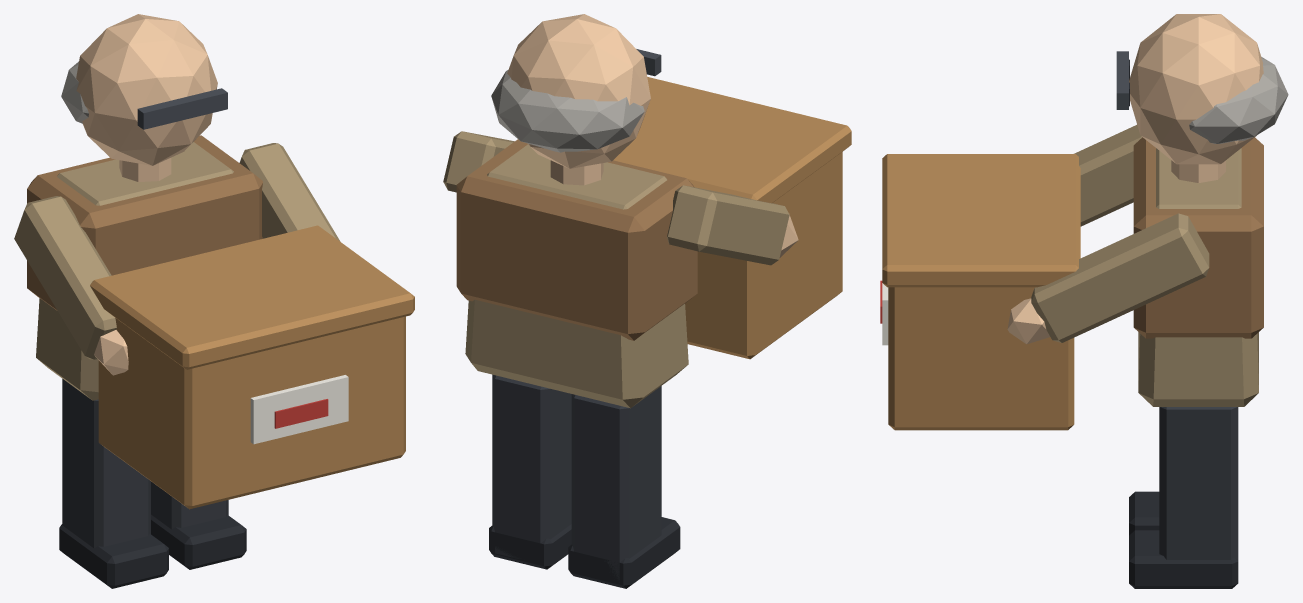
Rendered from oldguard.glb.
3 renders of one model, left to right at view 1: azimuth 30°, elevation 25°; view 2: azimuth 150°, elevation 25°; view 3: azimuth 270°, elevation 25°, orthographic.
Visible parts, largest first — view 1: Props, Body, LegR, ArmR, LegL, ArmL; view 2: Props, Body, LegR, LegL, ArmR, ArmL; view 3: Props, Body, LegL, ArmL, ArmR, LegR.
Boxes of the visible parts, left/top/right/bottom form: Props: left=27, top=88, right=414, bottom=509; Body: left=36, top=14, right=233, bottom=400; LegR: left=59, top=379, right=168, bottom=588; ArmR: left=14, top=196, right=128, bottom=375; LegL: left=151, top=481, right=246, bottom=569; ArmL: left=239, top=143, right=340, bottom=241; Props: left=456, top=49, right=851, bottom=359; Body: left=465, top=14, right=688, bottom=408; LegR: left=568, top=386, right=680, bottom=588; LegL: left=489, top=374, right=571, bottom=569; ArmR: left=667, top=185, right=798, bottom=265; ArmL: left=443, top=131, right=514, bottom=192; Props: left=880, top=51, right=1263, bottom=430; Body: left=1129, top=14, right=1288, bottom=406; LegL: left=1129, top=407, right=1238, bottom=588; ArmL: left=1007, top=213, right=1209, bottom=344; ArmR: left=1074, top=125, right=1142, bottom=226; LegR: left=1129, top=491, right=1159, bottom=535.
Bounding box in the file's own units: 0.4905 × 0.9616 × 0.6587.
